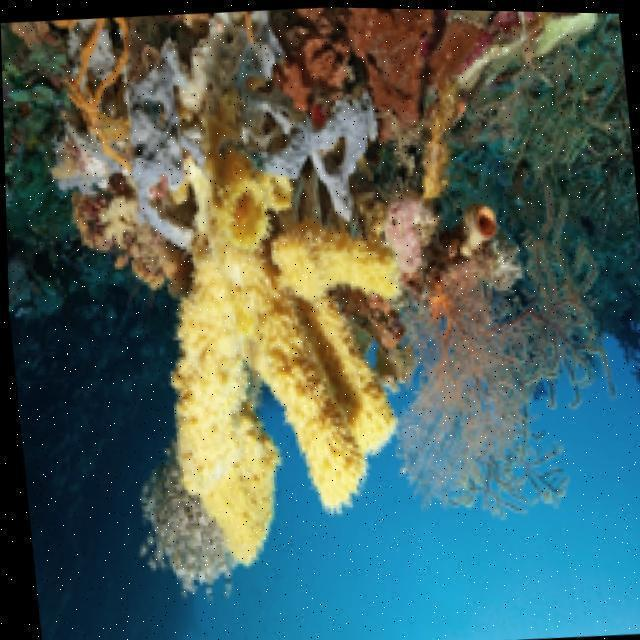Healthy Coral: (49, 0, 564, 601), (381, 183, 627, 550)
